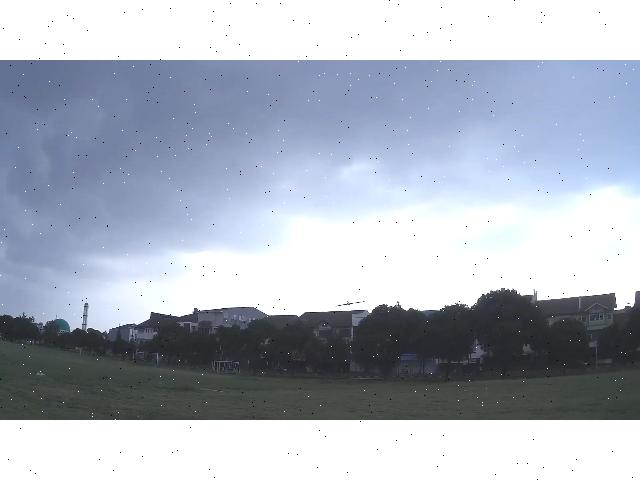Anti-Drone: (336, 302, 366, 307)
